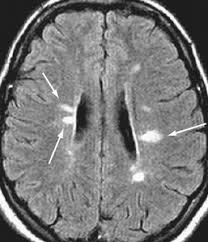Normal_Brain: (3, 3, 208, 242)
